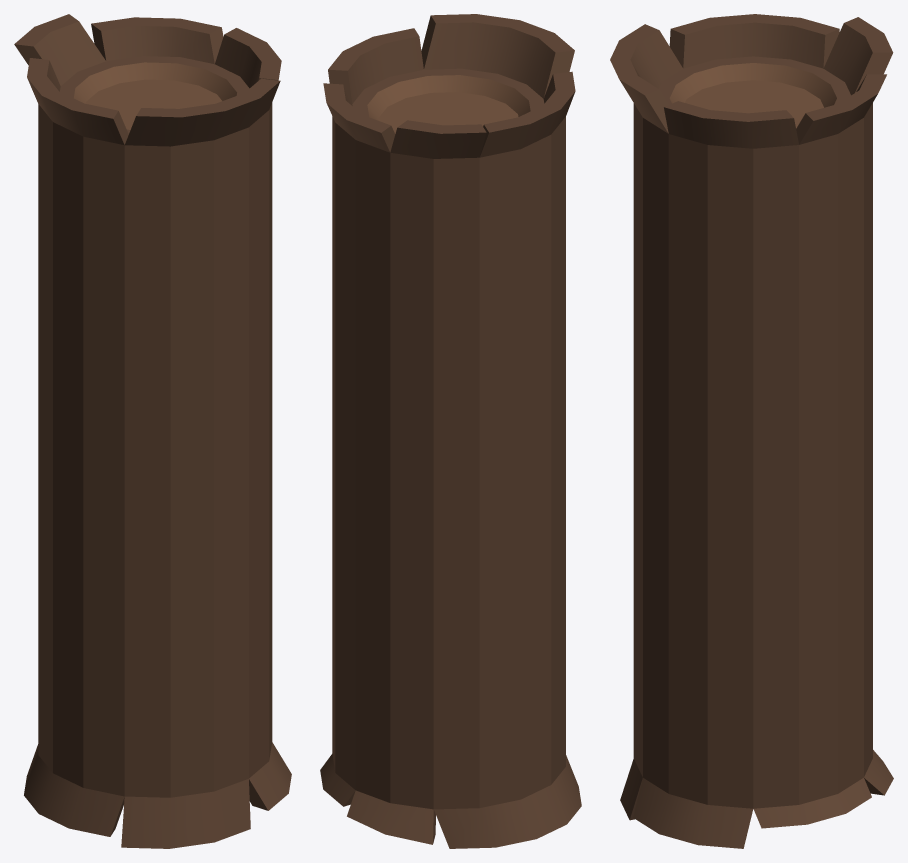
Rendered from Log.fbx.
The picture shows the model from 3 angles, left to right: view 1: azimuth 30°, elevation 25°; view 2: azimuth 150°, elevation 25°; view 3: azimuth 270°, elevation 25°; orthographic projection.
Visible parts, largest first — view 1: Log; view 2: Log; view 3: Log.
Boxes of the visible parts, x1,y1,x2,y2 form: Log: (14, 14, 291, 848); Log: (320, 14, 581, 848); Log: (610, 14, 893, 848).
Size of the model in its own units: 172 by 513 by 178.
